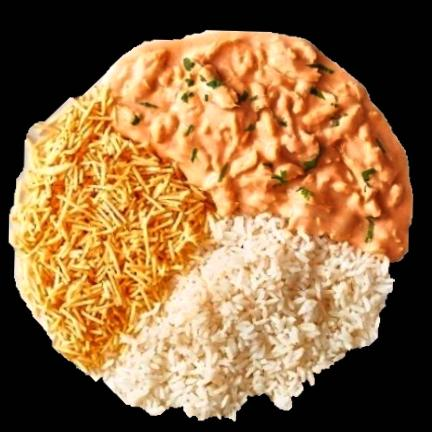chicken: (109, 32, 412, 260)
potato: (10, 88, 212, 373)
rice: (105, 215, 392, 420)
